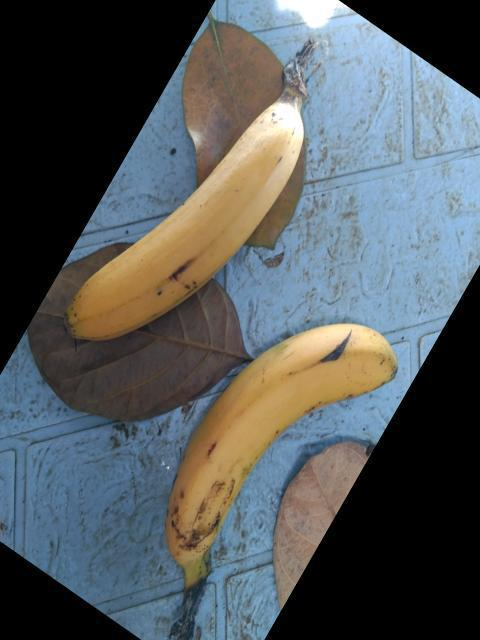freshripe: (31, 85, 331, 338)
ripe: (154, 311, 398, 594)
